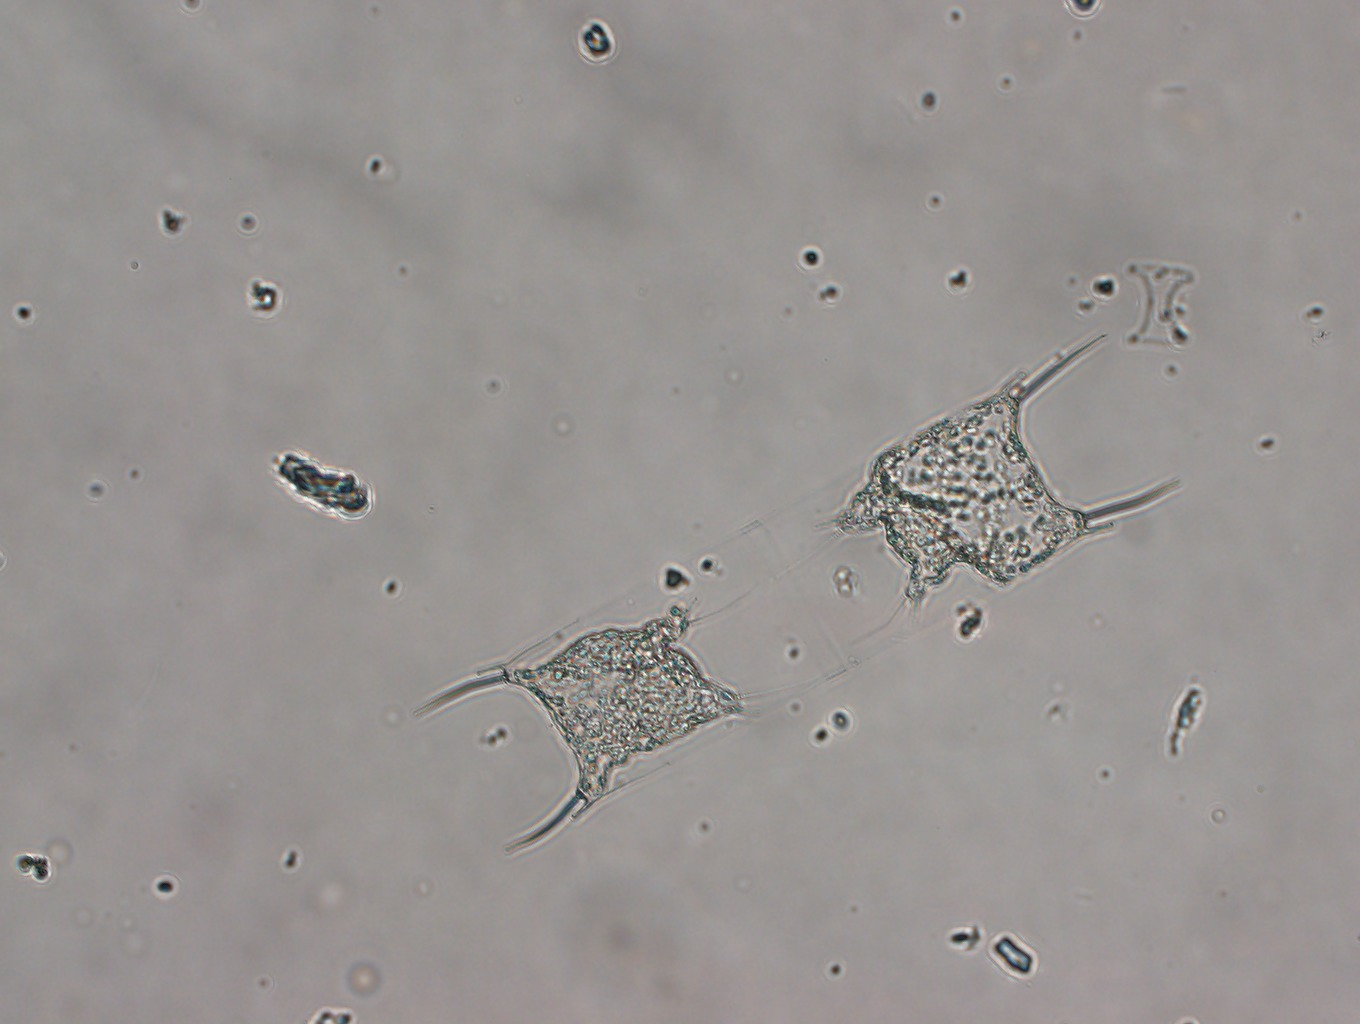biddulphia: (409, 324, 1187, 853)
